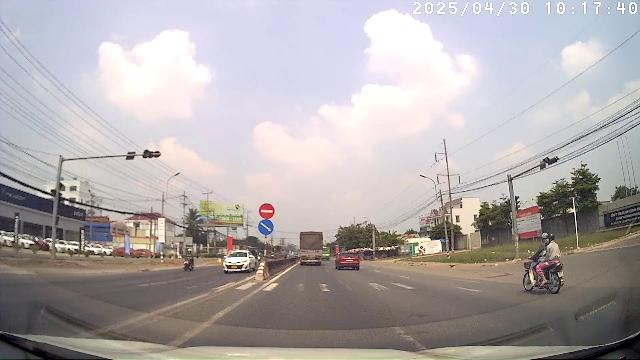102-cam-di-nguoc-chieu: (259, 202, 275, 218)
302a-huong-phai-di-vong-chuong-ngai-vat-1: (258, 219, 274, 235)
